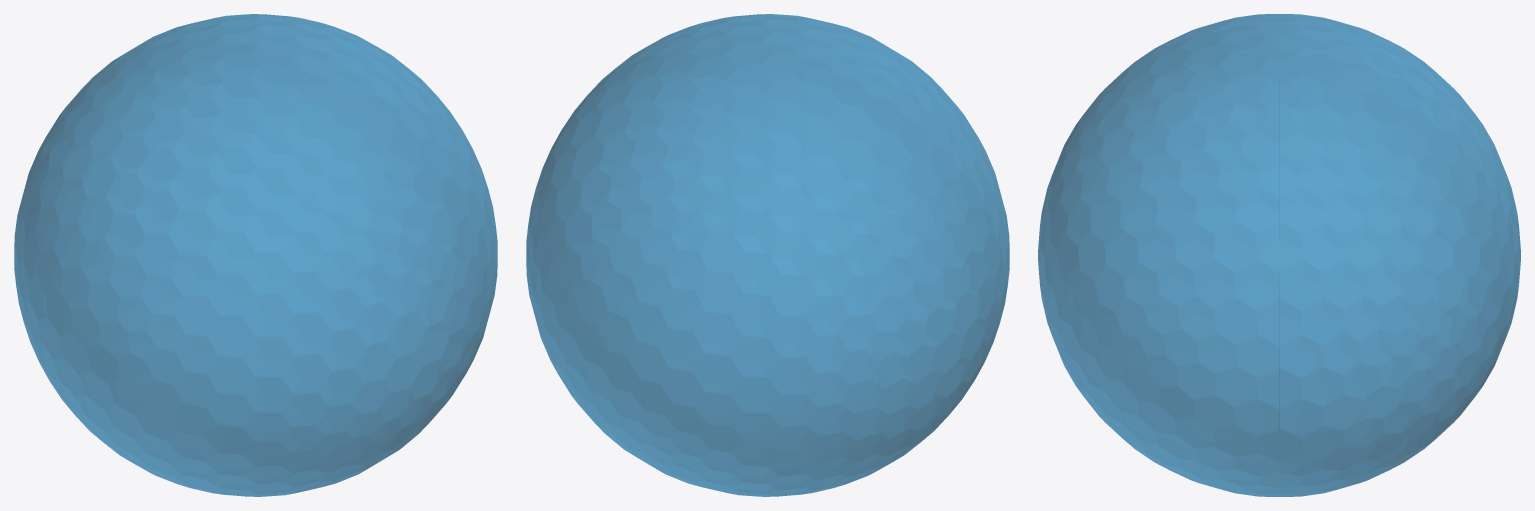
File: Shield.obj
3 views of the same model, side by side, from view 1: azimuth 30°, elevation 25°; view 2: azimuth 150°, elevation 25°; view 3: azimuth 270°, elevation 25° (orthographic).
Parts seen in each view (by area): view 1: Sphere_6; view 2: Sphere_6; view 3: Sphere_6.
Part boxes in pixels (left/top/right/bottom): Sphere_6: left=14, top=14, right=497, bottom=496; Sphere_6: left=526, top=14, right=1009, bottom=496; Sphere_6: left=1038, top=14, right=1520, bottom=496.
Bounding box in the file's own units: 16.92 × 16.92 × 16.92.
